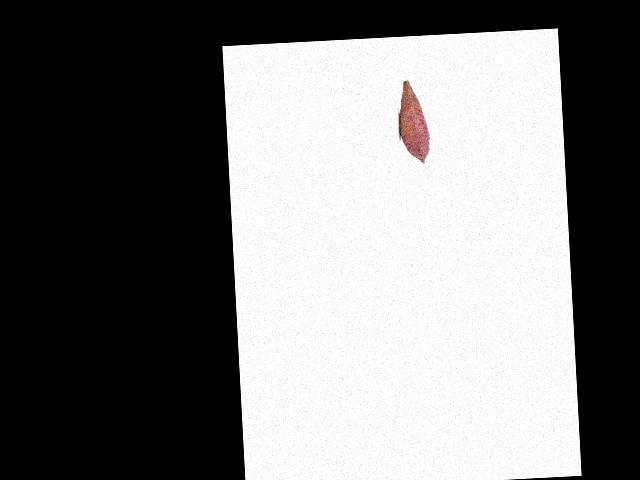sweet_potato: (398, 79, 430, 165)
